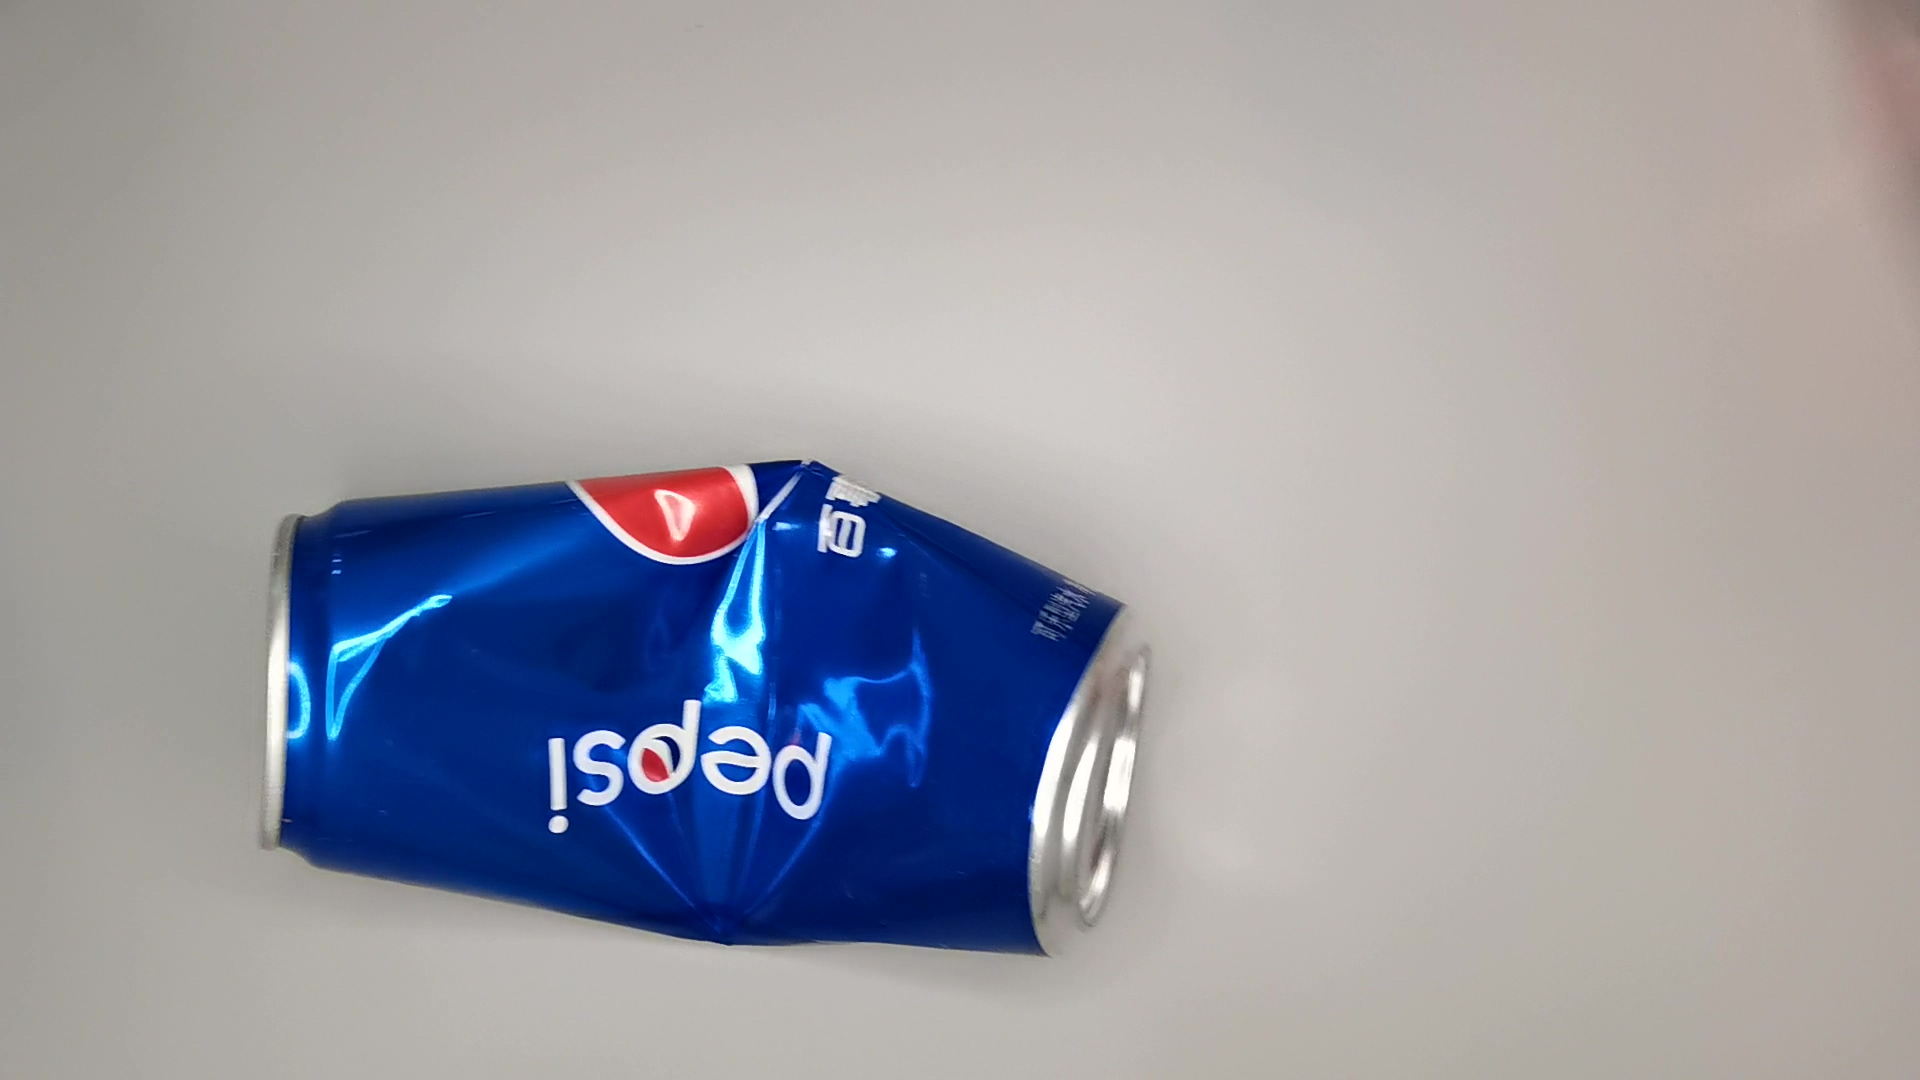can: (255, 452, 1167, 969)
